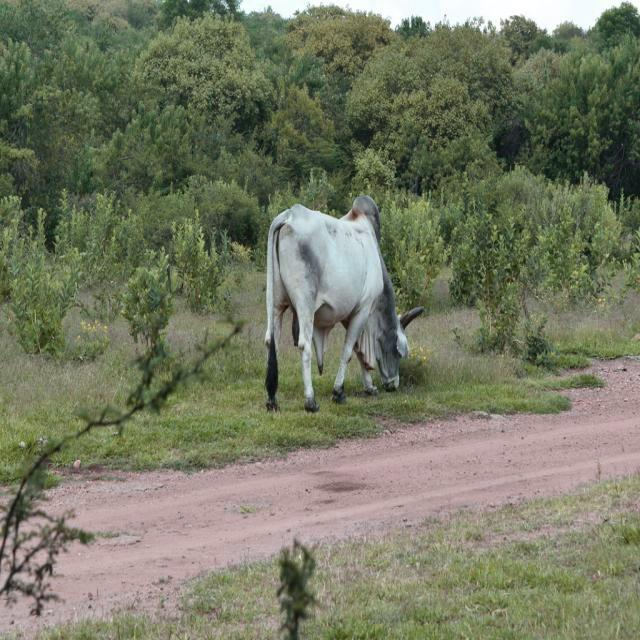cow: (266, 196, 422, 411)
